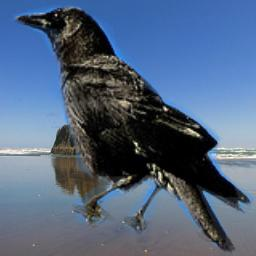Crow: (4, 3, 254, 256)
